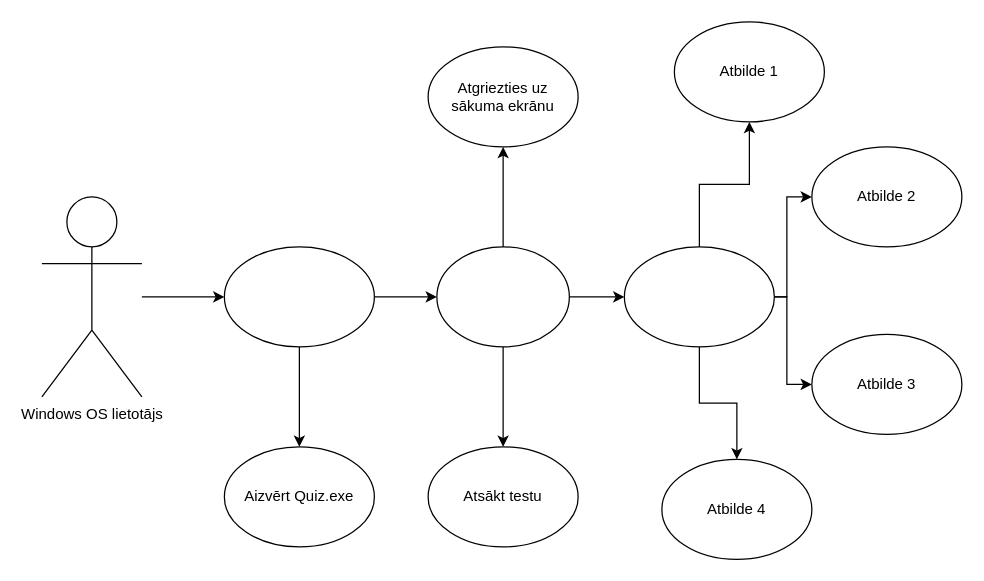
This 984x581 diagram has some shape labels left out. The shapes that lost their labels are listed below. From the top down, each one's centre as x and y in pixels, then its label:
At point 298,296: "Startēt Quiz.exe".
At point 502,296: "Iesākt testu".
At point 698,296: "Izvēlēties atbildi".
